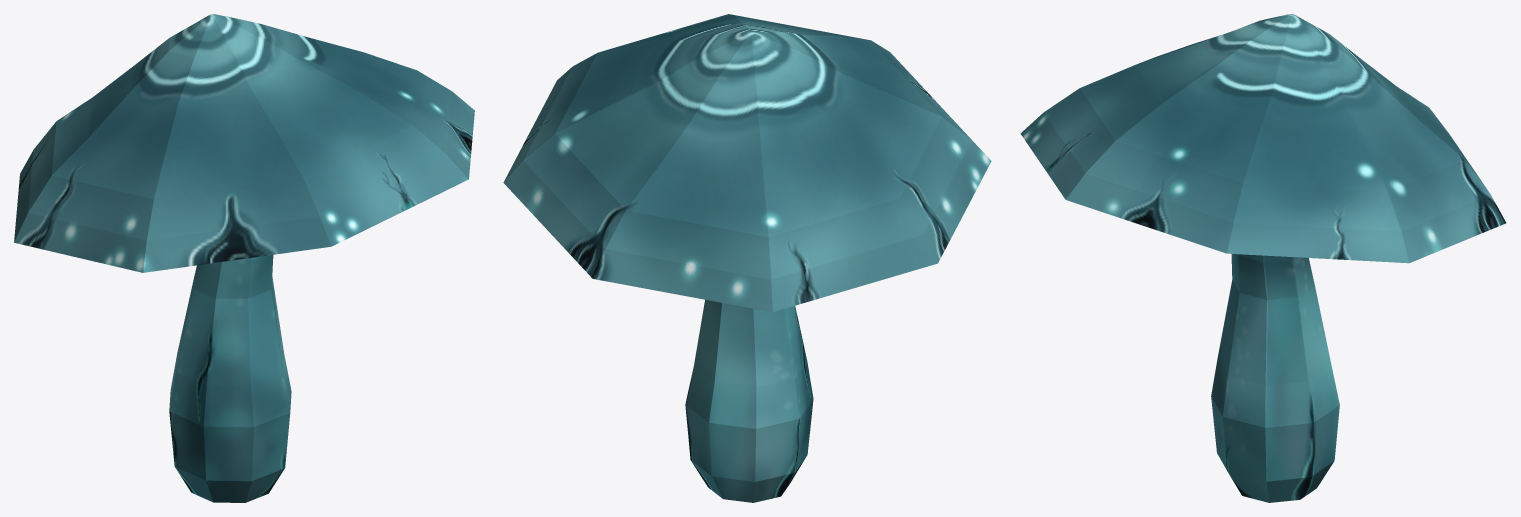
Rendered from hongo_magico.obj.
3 views of the same model, side by side, from view 1: azimuth 30°, elevation 25°; view 2: azimuth 150°, elevation 25°; view 3: azimuth 270°, elevation 25° (orthographic).
Visible parts, largest first — view 1: Cylinder; view 2: Cylinder; view 3: Cylinder.
Boxes of the visible parts, left/top/right/bottom form: Cylinder: left=14, top=14, right=474, bottom=502; Cylinder: left=503, top=14, right=991, bottom=502; Cylinder: left=1020, top=14, right=1506, bottom=502.
Size of the model in its own units: 1.05 by 1.11 by 1.05.
